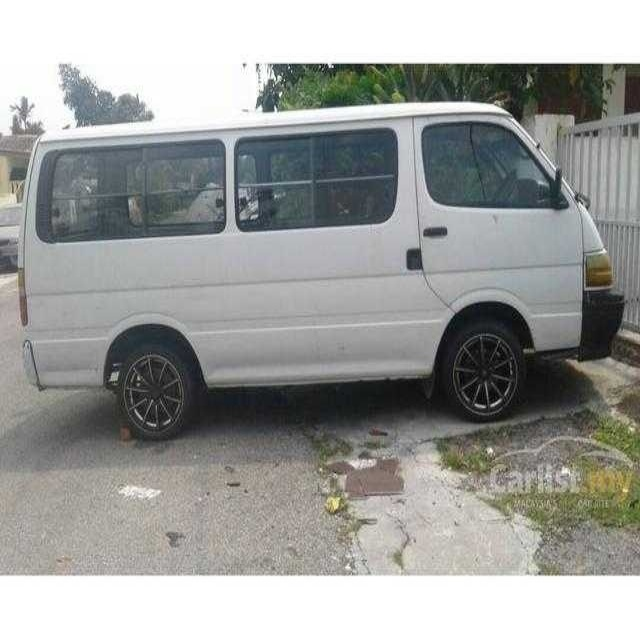Van: (16, 100, 624, 439)
